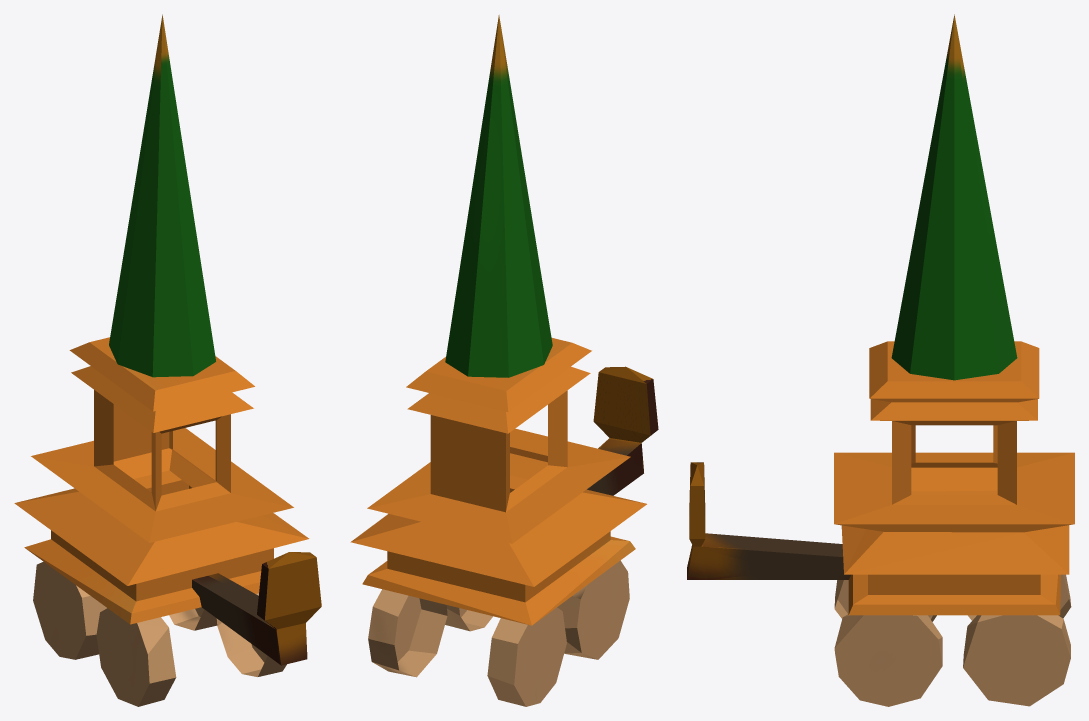
The model's file is chariot 1.fbx.
3 views of the same model, side by side, from view 1: azimuth 30°, elevation 25°; view 2: azimuth 150°, elevation 25°; view 3: azimuth 270°, elevation 25° (orthographic).
Parts seen in each view (by area): view 1: Circle; view 2: Circle; view 3: Circle.
Boxes of the visible parts, x1,y1,x2,y2 form: Circle: (14, 14, 321, 706); Circle: (350, 15, 658, 706); Circle: (687, 14, 1074, 706).
Bounding box in the file's own units: 24.27 × 12.98 × 7.23.
4 materials, 4 textured.
